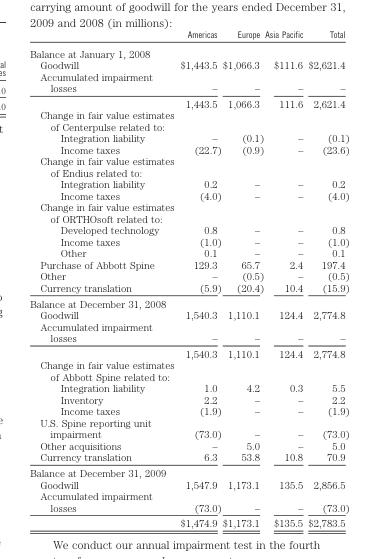table: (29, 28, 349, 528)
table column: (29, 28, 168, 528), (168, 28, 221, 528), (304, 28, 349, 528), (221, 28, 263, 528), (263, 28, 304, 528)
table column header: (29, 28, 349, 43)
table projected row header: (29, 109, 349, 132), (29, 155, 349, 178), (29, 201, 349, 224), (29, 358, 349, 381), (29, 43, 349, 58), (29, 464, 349, 478), (29, 295, 349, 308)
table row: (29, 70, 349, 95), (29, 320, 349, 345), (29, 489, 349, 514), (29, 109, 349, 132), (29, 155, 349, 178), (29, 201, 349, 224), (29, 358, 349, 381), (29, 416, 349, 439), (29, 28, 349, 43), (29, 43, 349, 58), (29, 95, 349, 109), (29, 281, 349, 295), (29, 450, 349, 464), (29, 464, 349, 478), (29, 514, 349, 528), (29, 295, 349, 308), (29, 345, 349, 358), (29, 58, 349, 70), (29, 143, 349, 155), (29, 189, 349, 201), (29, 235, 349, 247), (29, 258, 349, 270), (29, 308, 349, 320), (29, 381, 349, 393), (29, 404, 349, 416), (29, 132, 349, 143), (29, 178, 349, 189), (29, 224, 349, 235), (29, 247, 349, 258), (29, 270, 349, 281), (29, 393, 349, 404), (29, 439, 349, 450), (29, 478, 349, 489)
